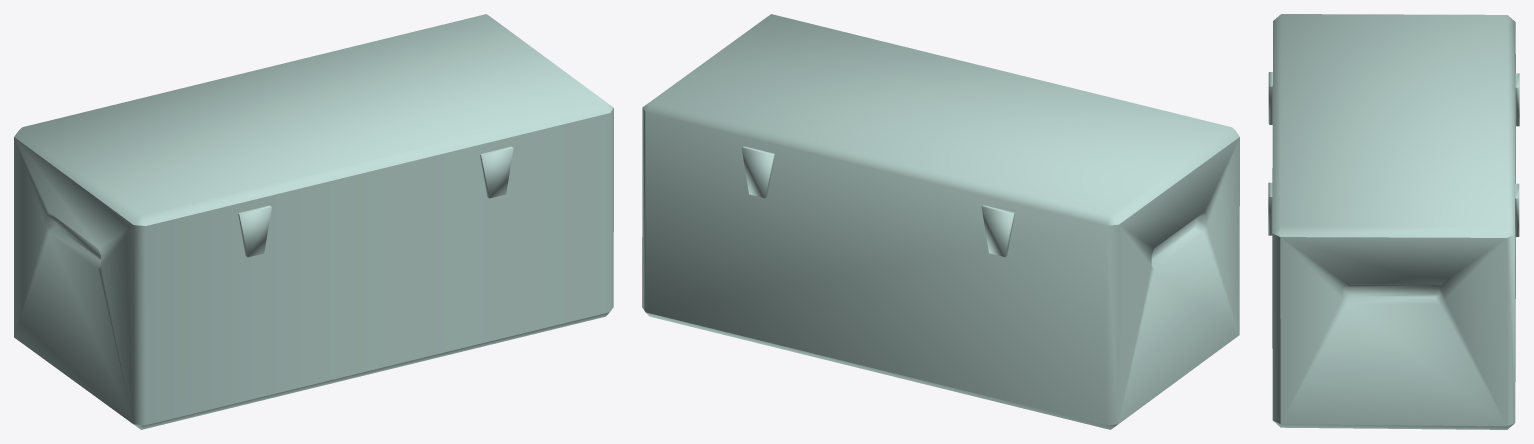
File: st_item_box_01.fbx
3 renders of one model, left to right at view 1: azimuth 30°, elevation 25°; view 2: azimuth 150°, elevation 25°; view 3: azimuth 270°, elevation 25°, orthographic. The views are drawn at different scales.
Parts seen in each view (by area): view 1: st_item_box_01; view 2: st_item_box_01; view 3: st_item_box_01.
Boxes of the visible parts, x1,y1,x2,y2 form: st_item_box_01: [14, 14, 613, 429]; st_item_box_01: [642, 14, 1239, 429]; st_item_box_01: [1268, 14, 1519, 429].
Size of the model in its own units: 110 by 47.58 by 53.25.
